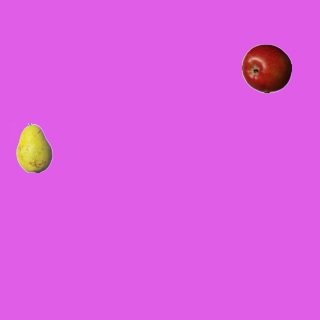Apple Braeburn: (241, 43, 291, 93)
Pear Monster: (9, 122, 59, 172)
